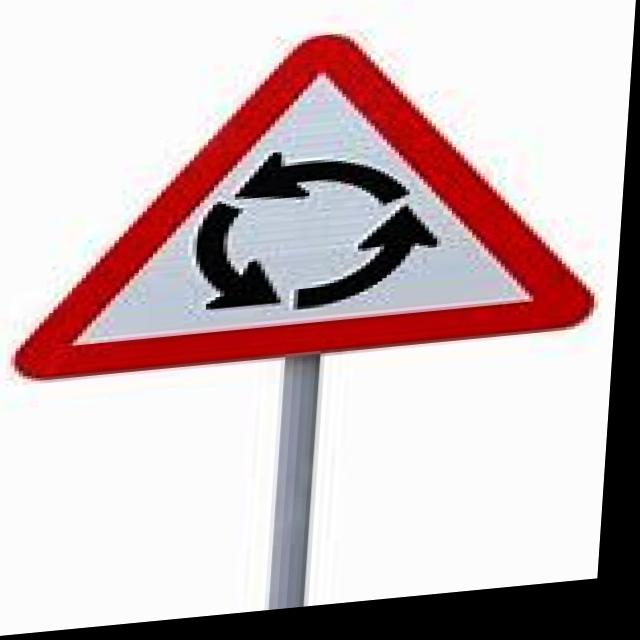ROUNDABOUT: (11, 8, 624, 393)
